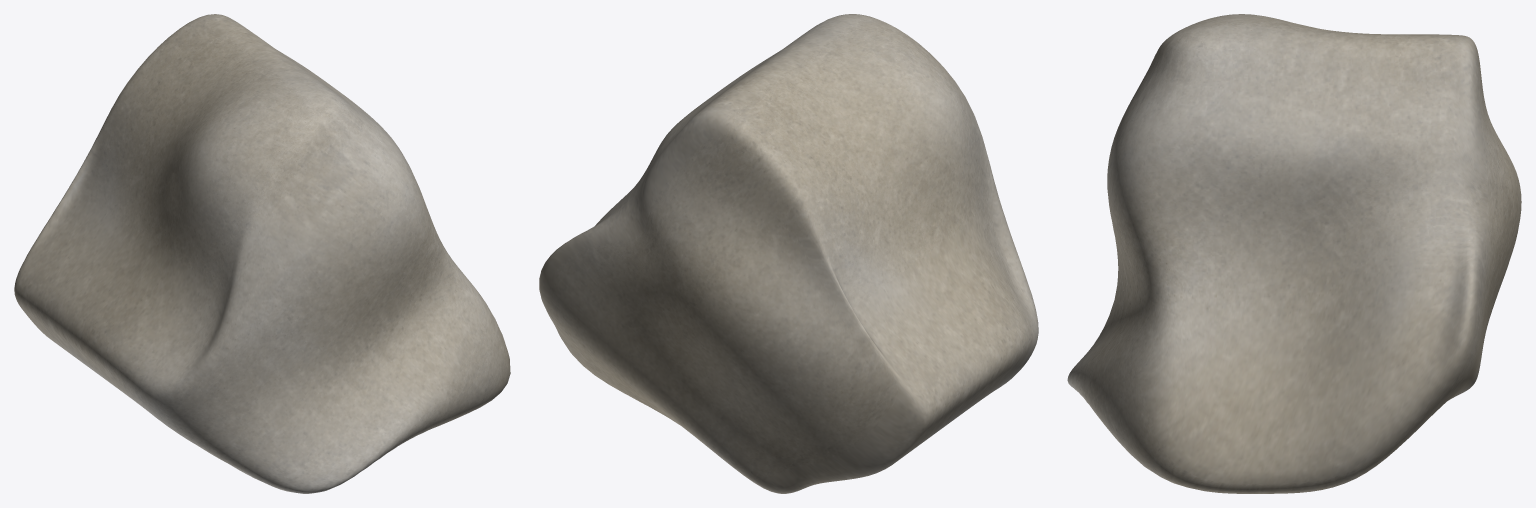
File: Bug_Enviro_Rock2.fbx
3 views of the same model, side by side, from view 1: azimuth 30°, elevation 25°; view 2: azimuth 150°, elevation 25°; view 3: azimuth 270°, elevation 25° (orthographic). The views are drawn at different scales.
Parts seen in each view (by area): view 1: pCube2; view 2: pCube2; view 3: pCube2.
Boxes of the visible parts, x1,y1,x2,y2 form: pCube2: (14, 14, 510, 493); pCube2: (539, 14, 1038, 493); pCube2: (1067, 14, 1521, 493).
Size of the model in its own units: 2.85 by 2.51 by 2.66.
1 material, 1 textured.
